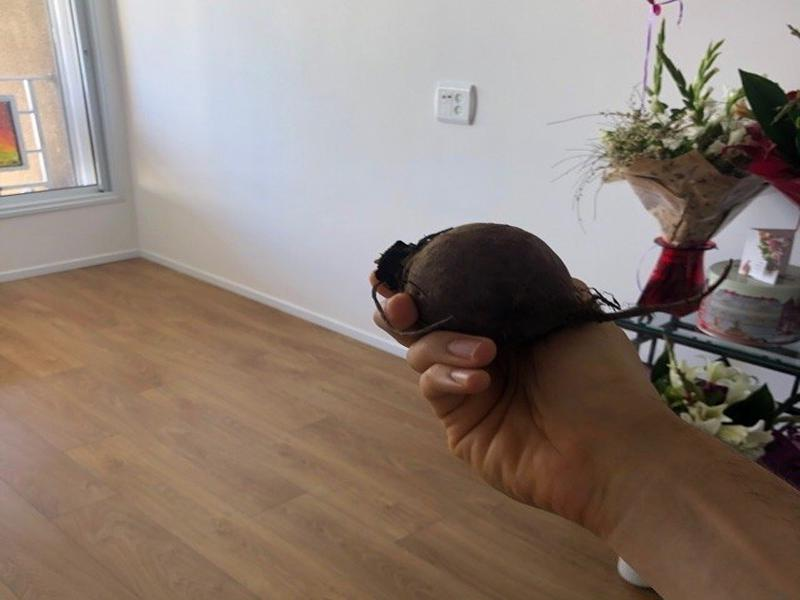Beet: (372, 223, 732, 347)
